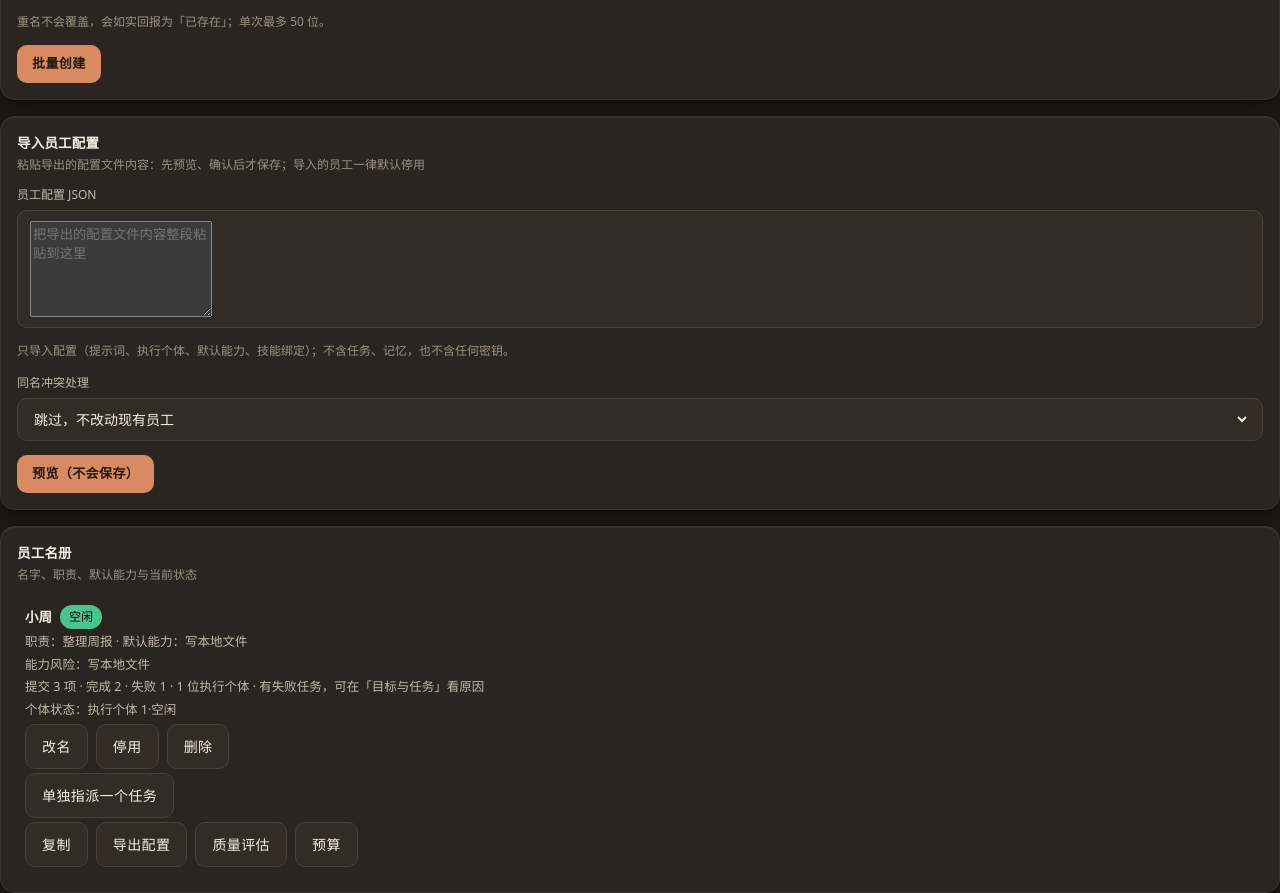
员工补齐能力 › 质量：如实显示可算的指标，算不出来的写「算不出来」
The width and height of the screenshot is (1280, 893).
(page scrolled)
Click the button "质量评估" at (241,844), box top-left (195, 822), bottom-right (287, 867)
(page scrolled)
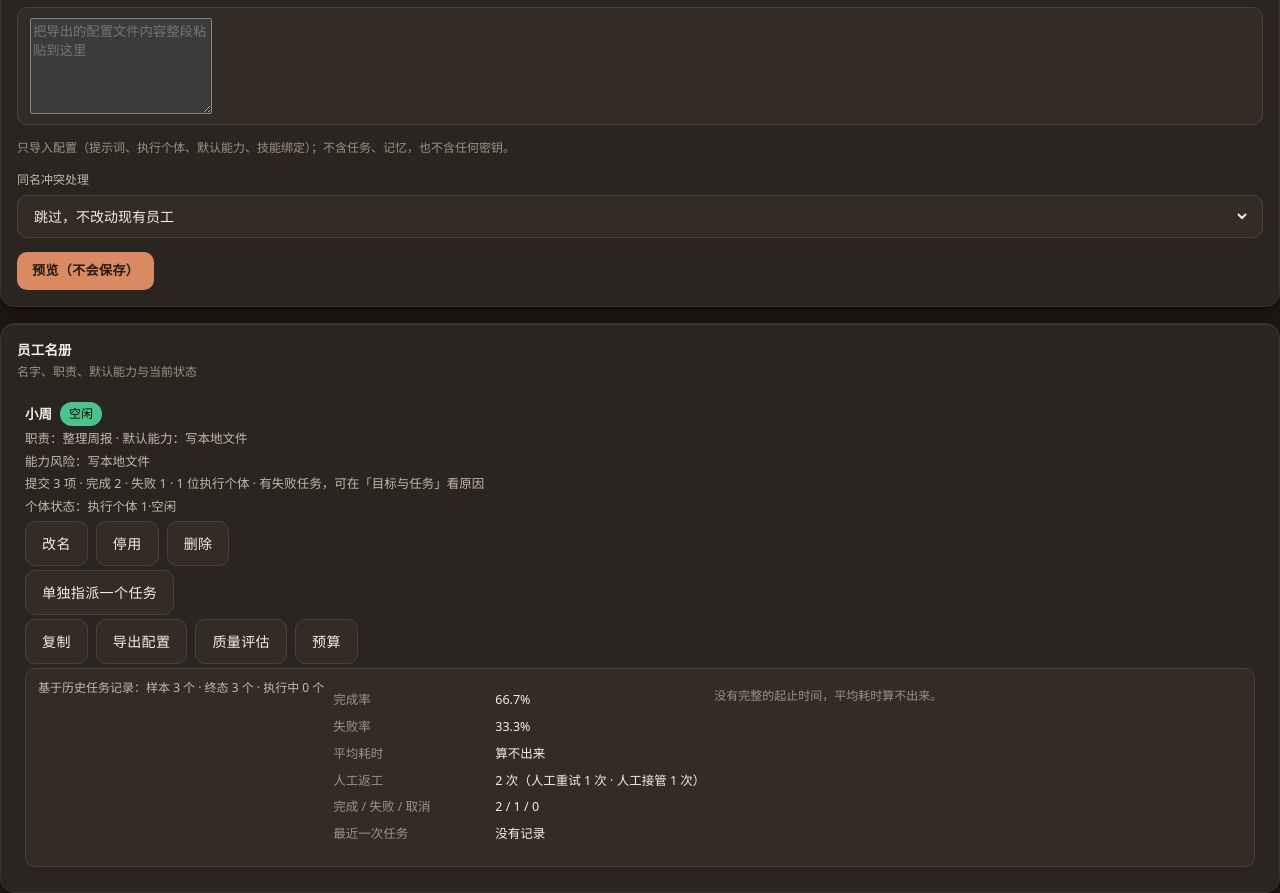
Check: the text "完成率" is shown, box top-left (333, 691), bottom-right (371, 708)
Check: the text "66.7%" is shown, box top-left (495, 691), bottom-right (530, 708)
Check: the text "33.3%" is shown, box top-left (495, 718), bottom-right (530, 735)
